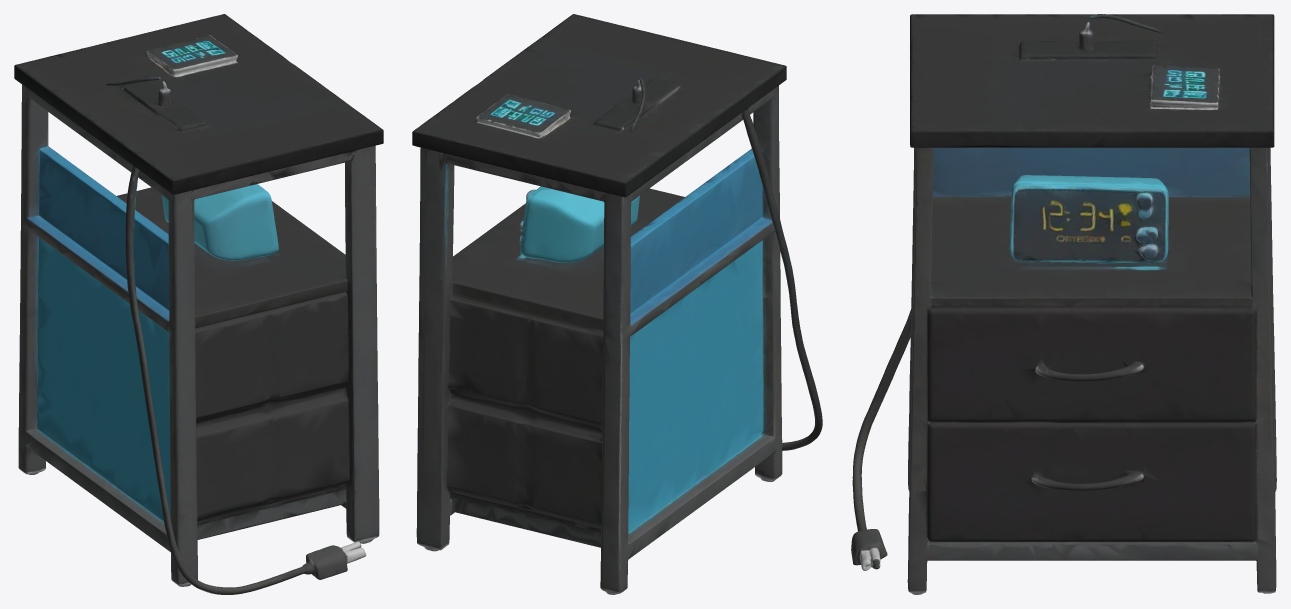
3 renders of one model, left to right at view 1: azimuth 30°, elevation 25°; view 2: azimuth 150°, elevation 25°; view 3: azimuth 270°, elevation 25°, orthographic. The views are drawn at different scales.
Parts seen in each view (by area): view 1: tripo_node_a1281cb2-4adb-4c35-a375-7f5251cc3a3a; view 2: tripo_node_a1281cb2-4adb-4c35-a375-7f5251cc3a3a; view 3: tripo_node_a1281cb2-4adb-4c35-a375-7f5251cc3a3a.
Part boxes in pixels (<box>): tripo_node_a1281cb2-4adb-4c35-a375-7f5251cc3a3a: <box>14,14,383,594</box>; tripo_node_a1281cb2-4adb-4c35-a375-7f5251cc3a3a: <box>412,14,822,594</box>; tripo_node_a1281cb2-4adb-4c35-a375-7f5251cc3a3a: <box>851,14,1276,594</box>.
Bounding box in the file's own units: 0.5837 × 1 × 0.7655.
1 material, 1 textured.
